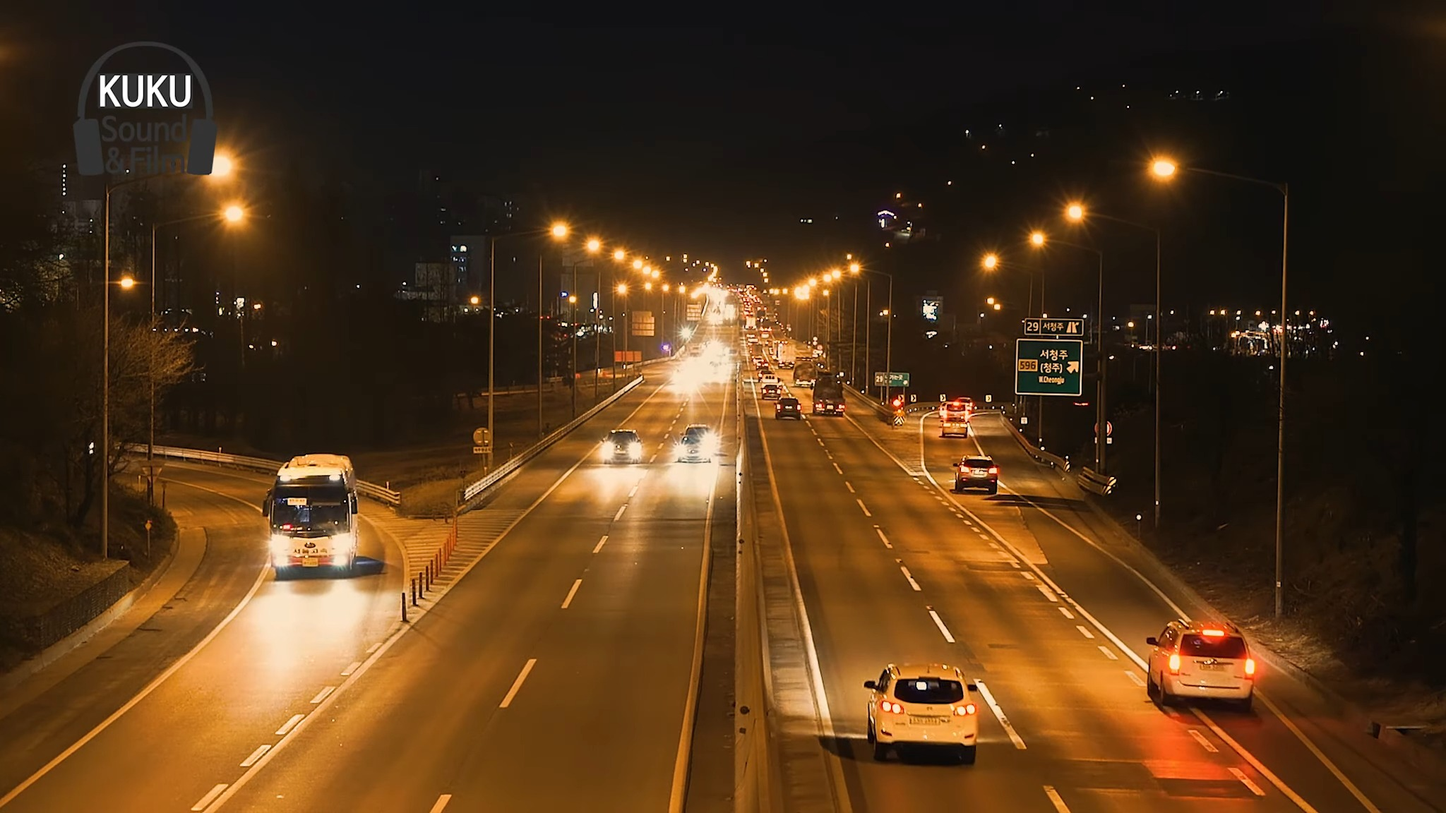car: (262, 456, 365, 580), (1144, 616, 1258, 710), (869, 660, 979, 754), (946, 456, 1000, 494)
